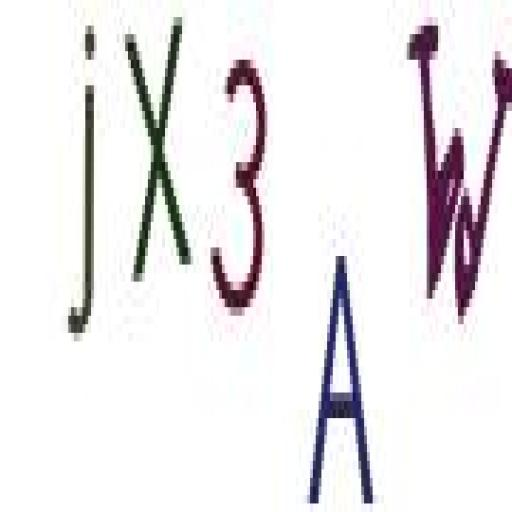3: (210, 49, 270, 329)
A: (305, 231, 378, 512)
W: (401, 0, 512, 324)
X: (118, 10, 198, 289)
j: (68, 10, 99, 351)
